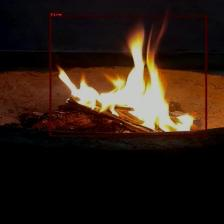fire: (50, 16, 206, 136)
